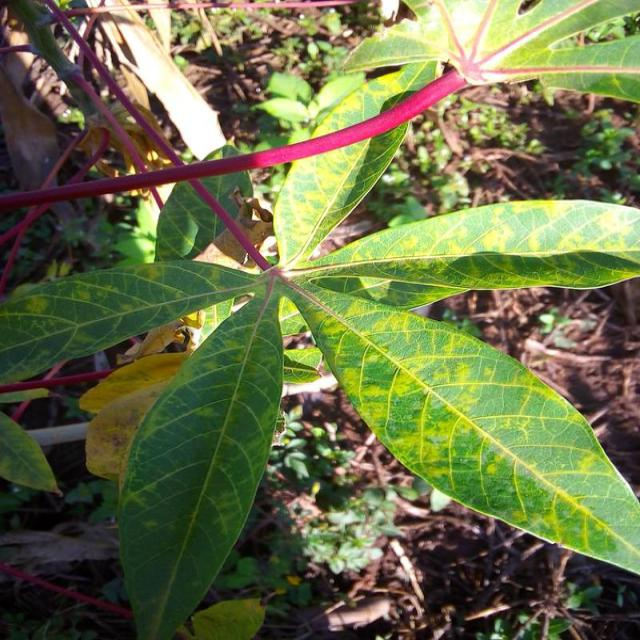cassava leaf: (2, 6, 640, 636), (285, 274, 640, 577), (116, 276, 286, 638), (272, 56, 441, 270)
